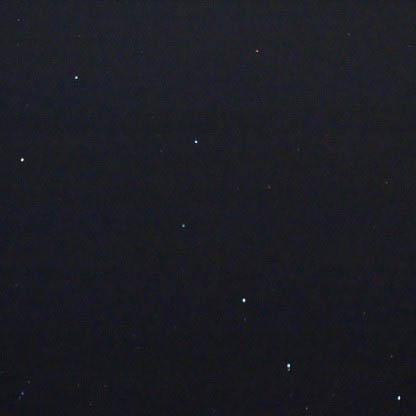Ursa Major: (276, 353, 315, 380), (384, 384, 407, 413), (12, 144, 33, 173), (170, 211, 195, 235), (234, 288, 256, 313), (184, 127, 205, 152), (65, 66, 85, 86)
